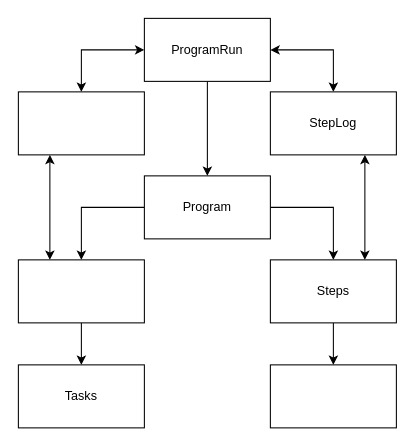
Image size: 415x446. Some labels were removed from this diagram. Here are the shapes that lost their labels. From the top down, the centre of each, then its label:
At point (80, 123): "EventLog".
At point (80, 291): "Events".
At point (332, 396): "Targets".
